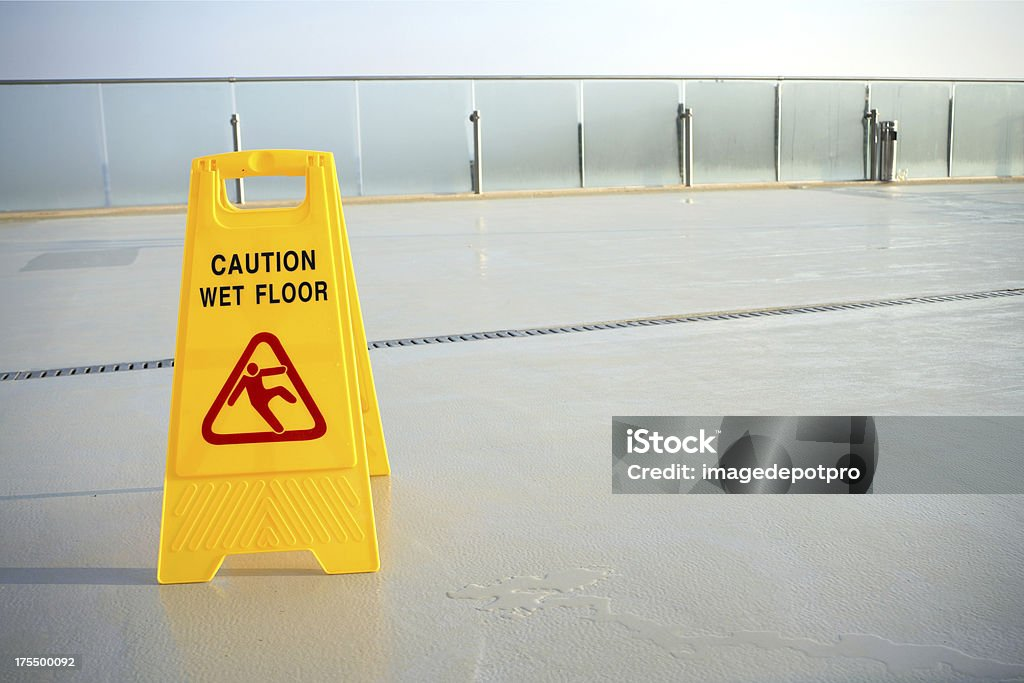wet caution sign: (140, 126, 412, 591)
